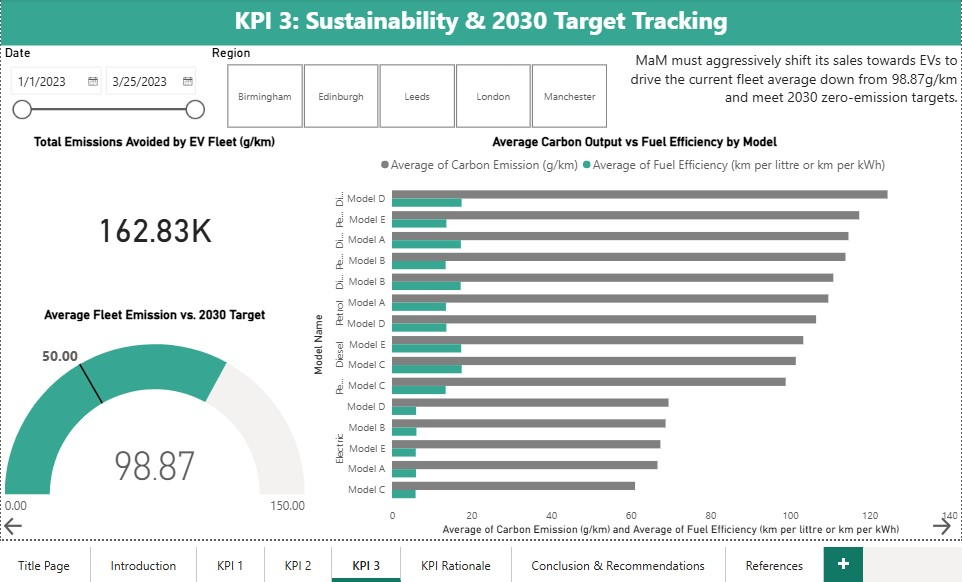

This screenshot's page, from the dashboard's own definition file:
{"tool":"powerbi","page":{"name":"KPI 3","canvas":[1280,720],"ordinal":4},"visuals":[{"type":"textbox","box":[0,0,1280,61.7],"z":0},{"type":"slicer","title":"Date","fields":{"Values":["EcoDrive Master Data.Date of Sale"]},"box":[0,61.7,280.4,116.8],"z":1000},{"type":"slicer","title":"Region","fields":{"Values":["EcoDrive Master Data.Region"]},"box":[275.4,61.7,555.7,116.8],"z":2000},{"type":"textbox","box":[831.5,62.2,448.5,117.6],"z":3000},{"type":"gauge","title":"Average Fleet Emission vs. 2030 Target","fields":{"Y":["Avg(EcoDrive Master Data.Carbon Emission (g/km))"]},"box":[0,410.2,410.2,311.1],"z":4000},{"type":"clusteredBarChart","title":"Average Carbon Output vs Fuel Efficiency by Model","fields":{"Category":["EcoDrive Master Data.Vehicle Type","EcoDrive Master Data.Model Name"],"Y":["Avg(EcoDrive Master Data.Carbon Emission (g/km))","Avg(EcoDrive Master Data.Fuel Efficiency (km per littre or km per kWh))"]},"box":[409,180,871.2,540],"z":5000},{"type":"card","title":"Total Emissions Avoided by EV Fleet (g/km)","fields":{"Values":["EcoDrive Master Data.Total Emissions Avoided"]},"box":[0,180.3,408.8,229.8],"z":6000},{"type":"actionButton","box":[0,686.8,35.8,33],"z":7000},{"type":"actionButton","box":[1237.3,686.8,42.7,33],"z":8000}]}

Visuals, with their boxes on the page's 1280x720 design canvas (x1, y1, x2, y2). These are canvas units, not pixel positions in the 962x582 screenshot, which may show the page scaled, cropped or inside an application window:
textbox: (left=0, top=0, right=1280, bottom=62)
"Date" slicer: (left=0, top=62, right=280, bottom=178)
"Region" slicer: (left=275, top=62, right=831, bottom=178)
textbox: (left=832, top=62, right=1280, bottom=180)
"Average Fleet Emission vs. 2030 Target" gauge: (left=0, top=410, right=410, bottom=721)
"Average Carbon Output vs Fuel Efficiency by Model" clusteredBarChart: (left=409, top=180, right=1280, bottom=720)
"Total Emissions Avoided by EV Fleet (g/km)" card: (left=0, top=180, right=409, bottom=410)
actionButton: (left=0, top=687, right=36, bottom=720)
actionButton: (left=1237, top=687, right=1280, bottom=720)
